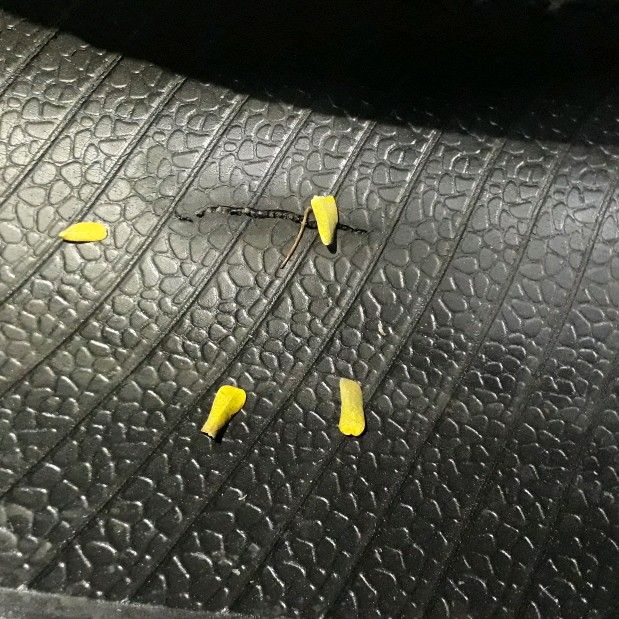cut: (168, 195, 373, 238)
